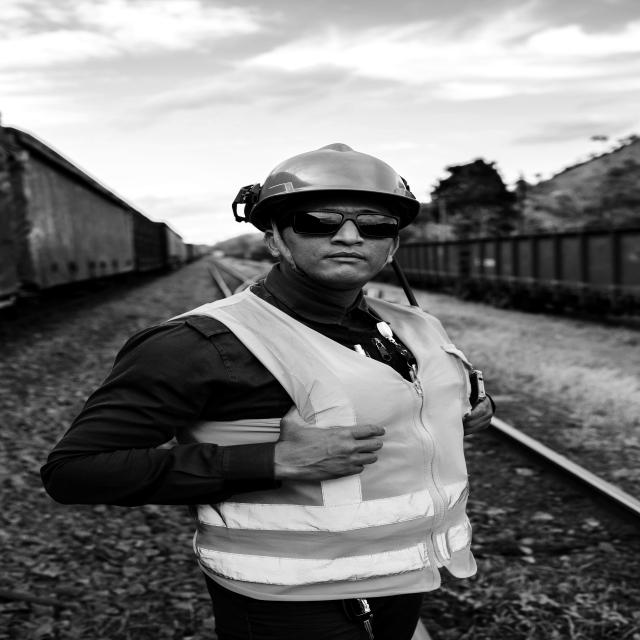Vest: (170, 296, 486, 603)
